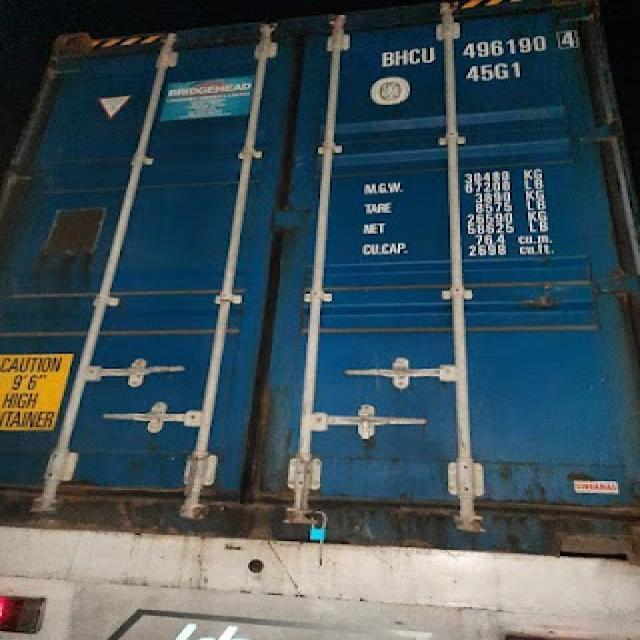ISO: (467, 62, 522, 82)
container_number: (379, 23, 579, 72)
